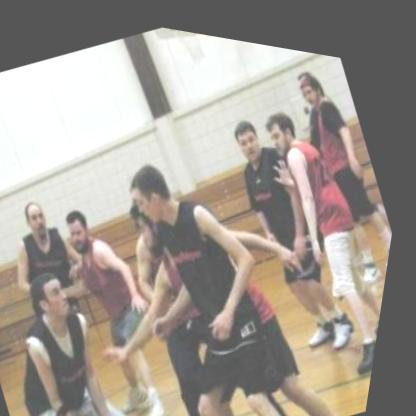basketball: (87, 400, 166, 416)
